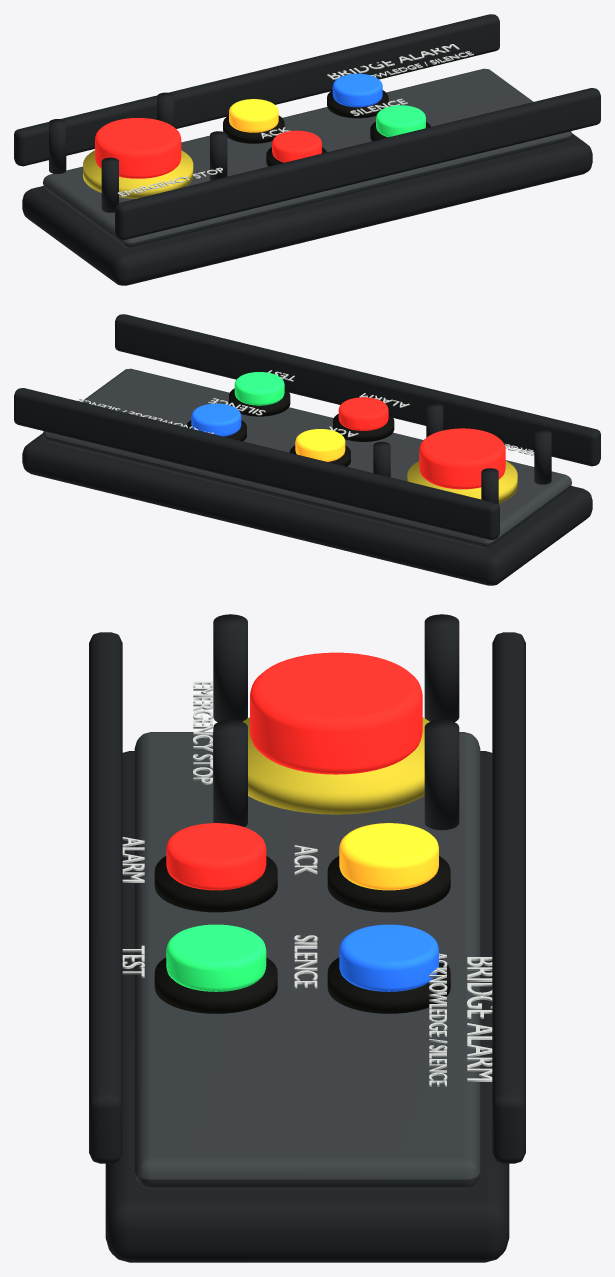
The model's file is BridgeAlarmPanel_VR_v1.0.glb.
3 renders of one model, top to bottom at view 1: azimuth 30°, elevation 25°; view 2: azimuth 150°, elevation 25°; view 3: azimuth 270°, elevation 25°, orthographic. The views are drawn at different scales.
Parts seen in each view (by area): view 1: body_rear_housing, guard_bottom_rail, panel_control_face, guard_top_rail, btn_emergency_stop_mushroom, btn_emergency_yellow_guard, btn_silence, btn_alarm_ack, btn_general_alarm, btn_test_lamp, guard_post.001, guard_post (+7 smaller); view 2: body_rear_housing, guard_top_rail, guard_bottom_rail, panel_control_face, btn_emergency_stop_mushroom, btn_general_alarm, btn_test_lamp, btn_silence, btn_alarm_ack, btn_emergency_yellow_guard, guard_post, btn_general_alarm_bezel (+4 smaller); view 3: panel_control_face, body_rear_housing, btn_emergency_stop_mushroom, guard_bottom_rail, guard_top_rail, btn_emergency_yellow_guard, btn_general_alarm, btn_test_lamp, btn_alarm_ack, btn_silence, guard_post.003, guard_post.001 (+10 smaller).
Part boxes in pixels (<box>): body_rear_housing: <box>22,133,592,285</box>; guard_bottom_rail: <box>115,88,600,239</box>; panel_control_face: <box>43,68,571,247</box>; guard_top_rail: <box>14,14,499,166</box>; btn_emergency_stop_mushroom: <box>95,118,181,178</box>; btn_emergency_yellow_guard: <box>83,150,193,198</box>; btn_silence: <box>332,73,382,107</box>; btn_alarm_ack: <box>229,99,278,132</box>; btn_general_alarm: <box>272,130,321,162</box>; btn_test_lamp: <box>376,105,425,137</box>; guard_post.001: <box>49,119,66,173</box>; guard_post: <box>101,157,118,212</box>; body_rear_housing: <box>22,433,592,585</box>; guard_top_rail: <box>14,388,499,539</box>; guard_bottom_rail: <box>115,314,600,466</box>; panel_control_face: <box>43,368,571,547</box>; btn_emergency_stop_mushroom: <box>419,428,505,489</box>; btn_general_alarm: <box>338,397,388,430</box>; btn_test_lamp: <box>234,372,284,405</box>; btn_silence: <box>191,403,241,436</box>; btn_alarm_ack: <box>295,429,345,461</box>; btn_emergency_yellow_guard: <box>407,461,517,503</box>; guard_post: <box>534,429,551,484</box>; btn_general_alarm_bezel: <box>333,414,394,441</box>; panel_control_face: <box>134,732,480,1189</box>; body_rear_housing: <box>105,751,509,1262</box>; btn_emergency_stop_mushroom: <box>250,652,422,774</box>; guard_bottom_rail: <box>89,632,122,1163</box>; guard_top_rail: <box>492,632,525,1163</box>; btn_emergency_yellow_guard: <box>242,717,429,814</box>; btn_general_alarm: <box>166,823,266,890</box>; btn_test_lamp: <box>166,924,266,991</box>; btn_alarm_ack: <box>339,823,438,890</box>; btn_silence: <box>339,924,438,991</box>; guard_post.003: <box>424,720,459,830</box>; guard_post.001: <box>424,614,459,722</box>.
Bounding box in the file's own units: 1.16 × 0.235 × 0.455.
